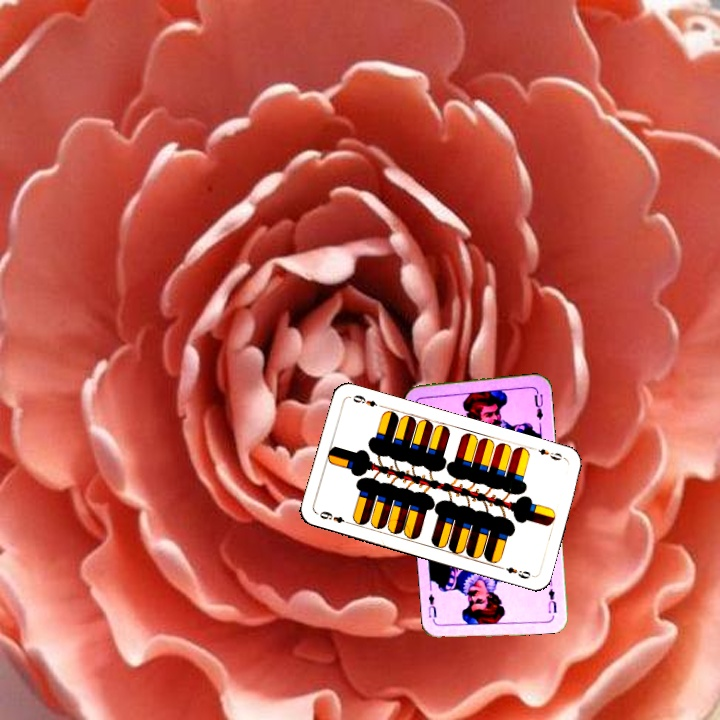E9: (529, 443, 569, 463), (316, 507, 354, 527)
EU: (544, 585, 559, 616)
